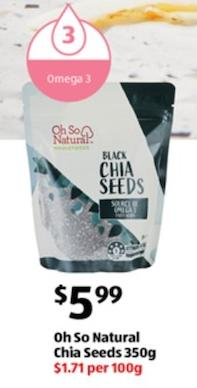description_block: (30, 331, 166, 363)
price_main: (40, 281, 139, 326)
product_image_block: (9, 20, 178, 276)
unit_price_block: (40, 360, 152, 382)
